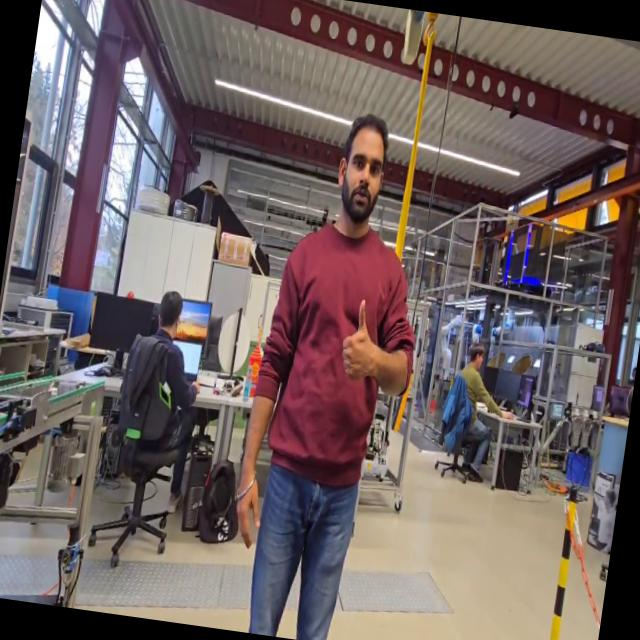thumbs_up: (334, 292, 386, 391)
